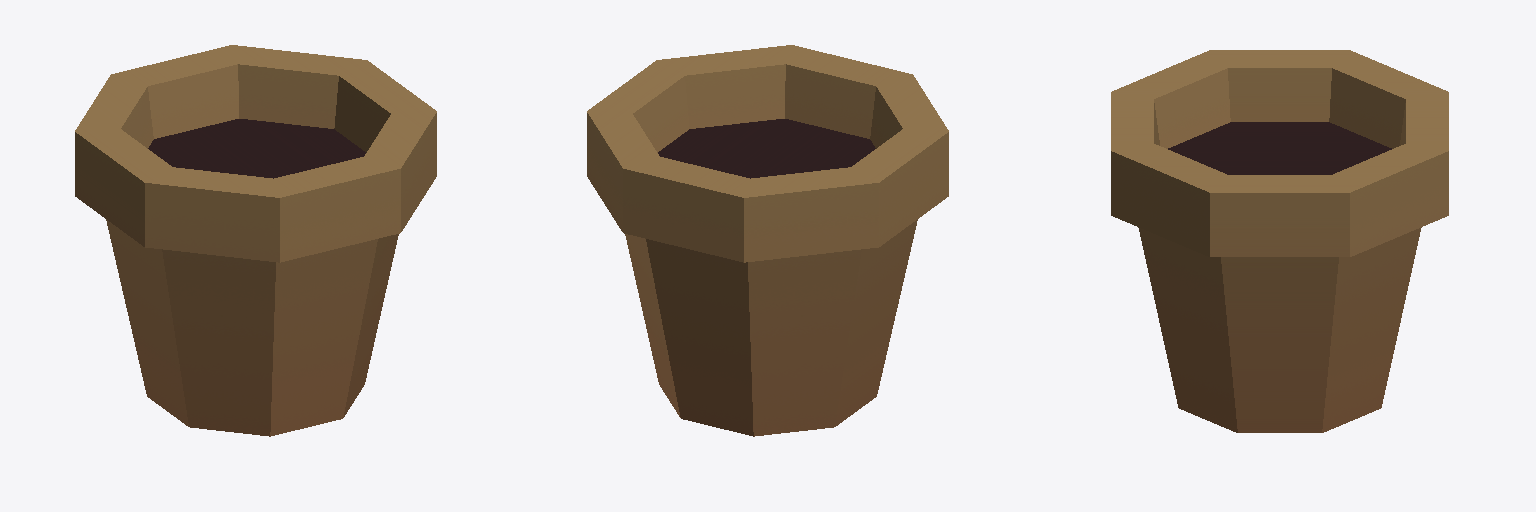
3 renders of one model, left to right at view 1: azimuth 30°, elevation 25°; view 2: azimuth 150°, elevation 25°; view 3: azimuth 270°, elevation 25°, orthographic.
Visible parts, largest first — view 1: Cylinder; view 2: Cylinder; view 3: Cylinder.
Part boxes in pixels (x1,y1,x2,y2): Cylinder: (75,45,436,436); Cylinder: (587,45,948,436); Cylinder: (1111,50,1448,432).
Size of the model in its own units: 0.703 by 0.618 by 0.703.
Materials: 1 (1 with a texture image).